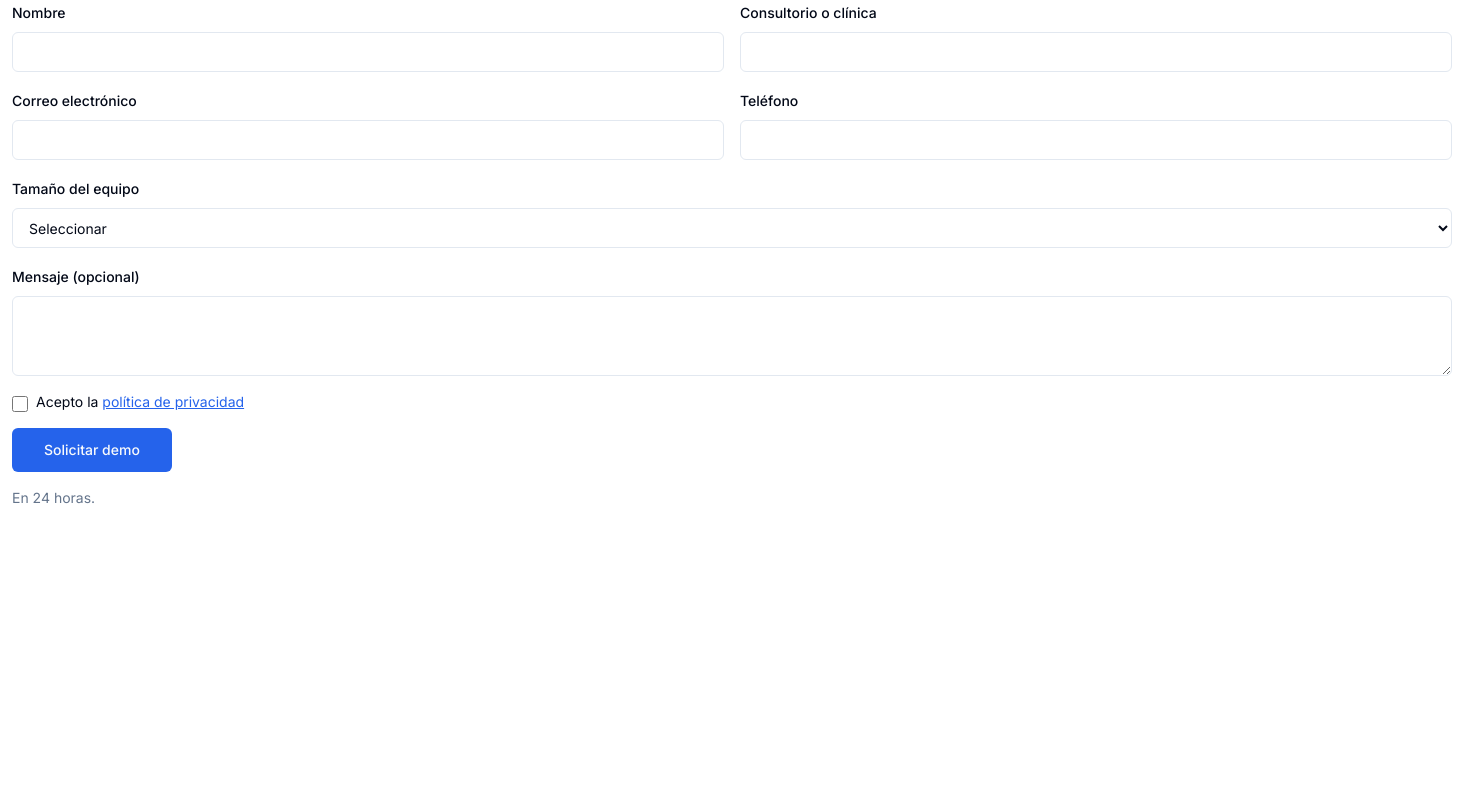
it: DemoRequestForm › shows field errors and sends nothing when the form is empty
Click the button "Solicitar demo".
click(92, 450)  # box [12,428,172,472]
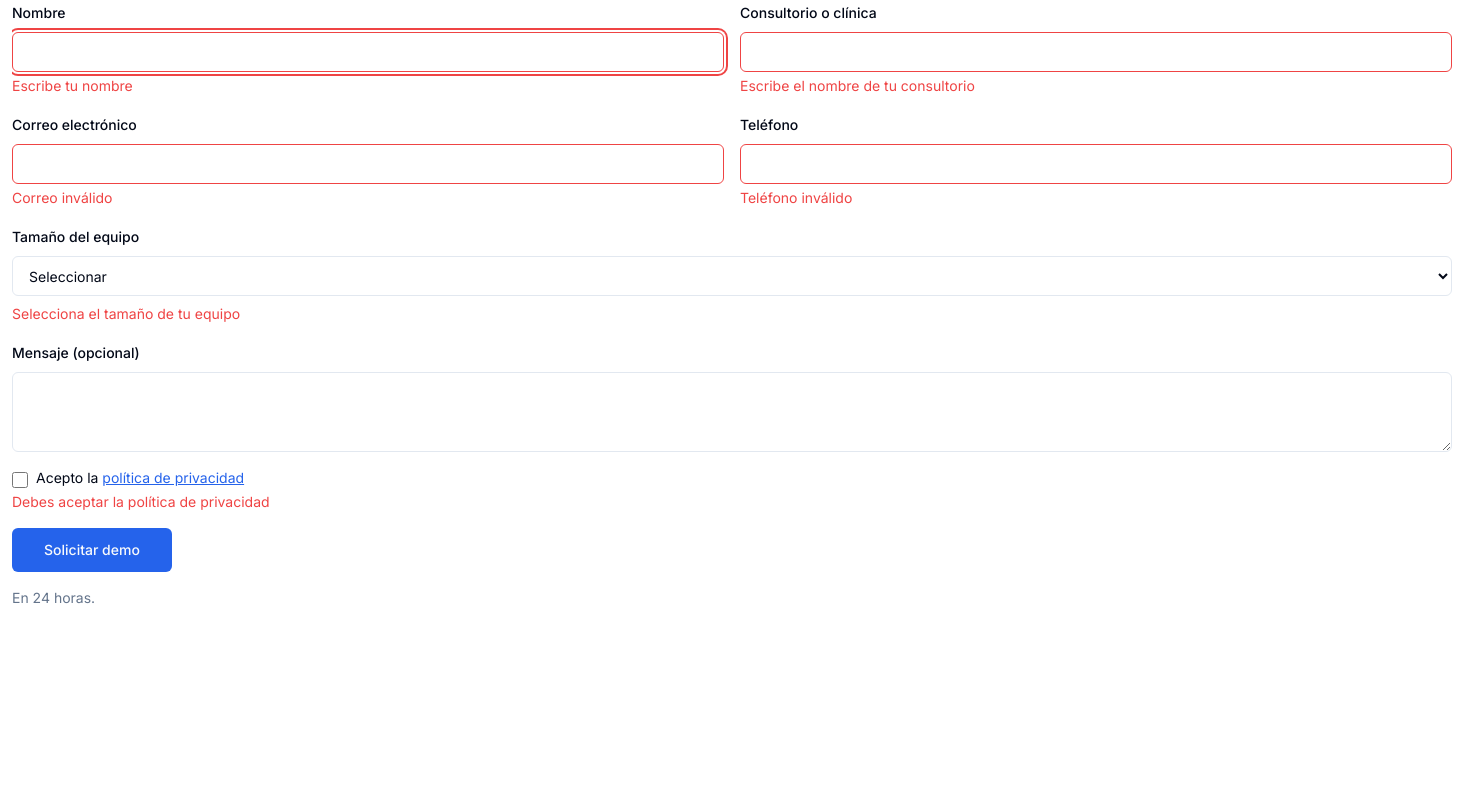
Expected: the text "Escribe tu nombre" is shown, [12,77,133,94]
Expected: the text "Debes aceptar la política de privacidad" is shown, [12,493,270,510]
